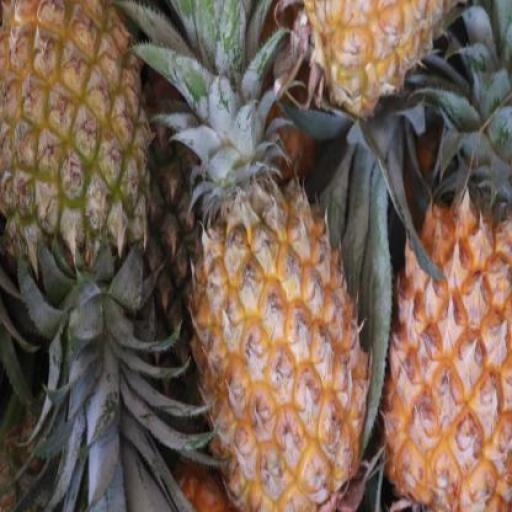------------------------------: (0, 0, 153, 270)
Pineapple - v8 v1: (182, 161, 367, 512), (385, 192, 512, 512)
